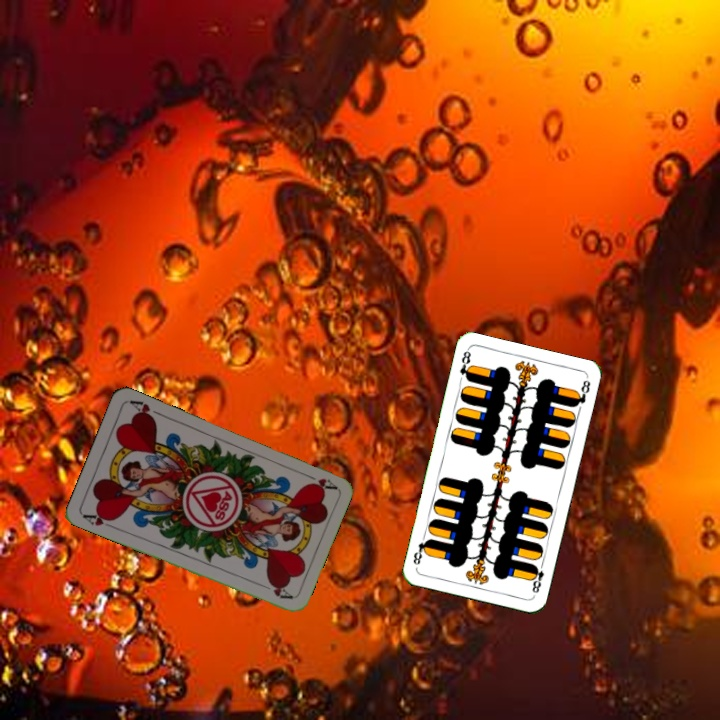E8: (527, 558, 547, 595), (456, 346, 475, 384)
HA: (300, 469, 338, 492), (79, 509, 118, 531)
